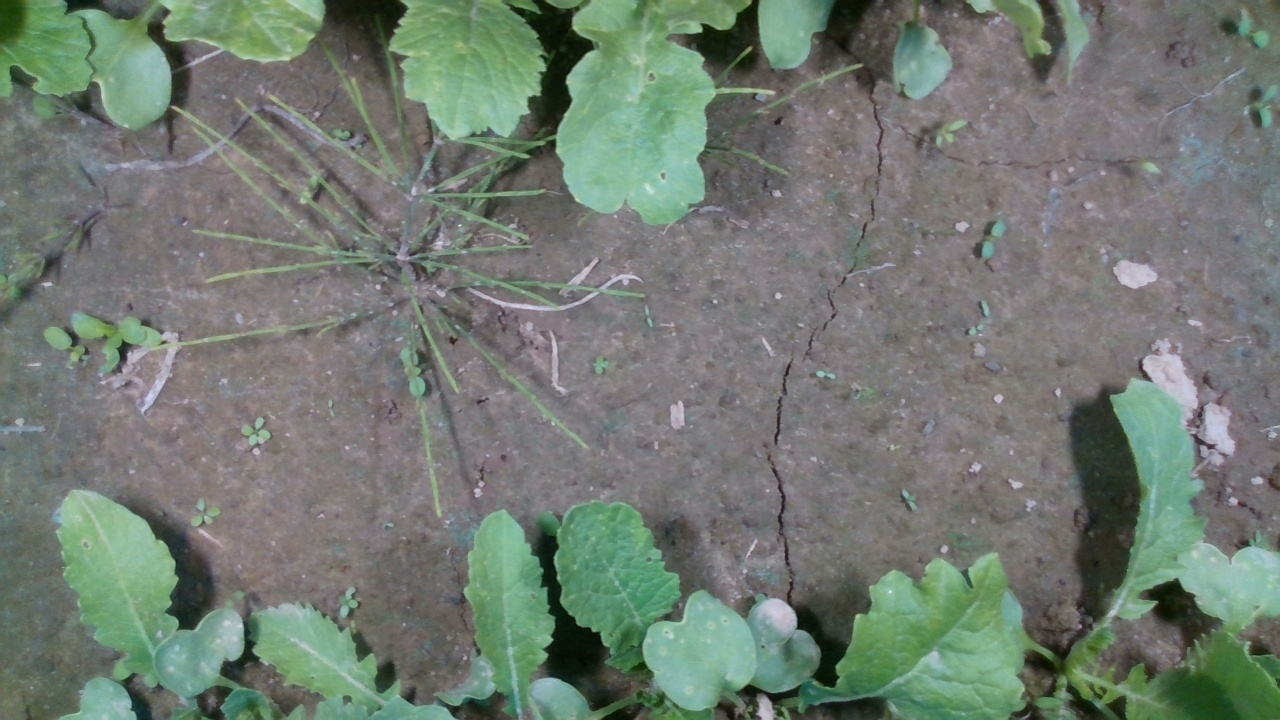weed: (239, 414, 273, 447), (980, 218, 1005, 260), (190, 496, 220, 527), (336, 585, 362, 619), (899, 487, 920, 513), (590, 353, 609, 376), (814, 369, 836, 381)
